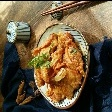guobaorou: (32, 26, 88, 105)
